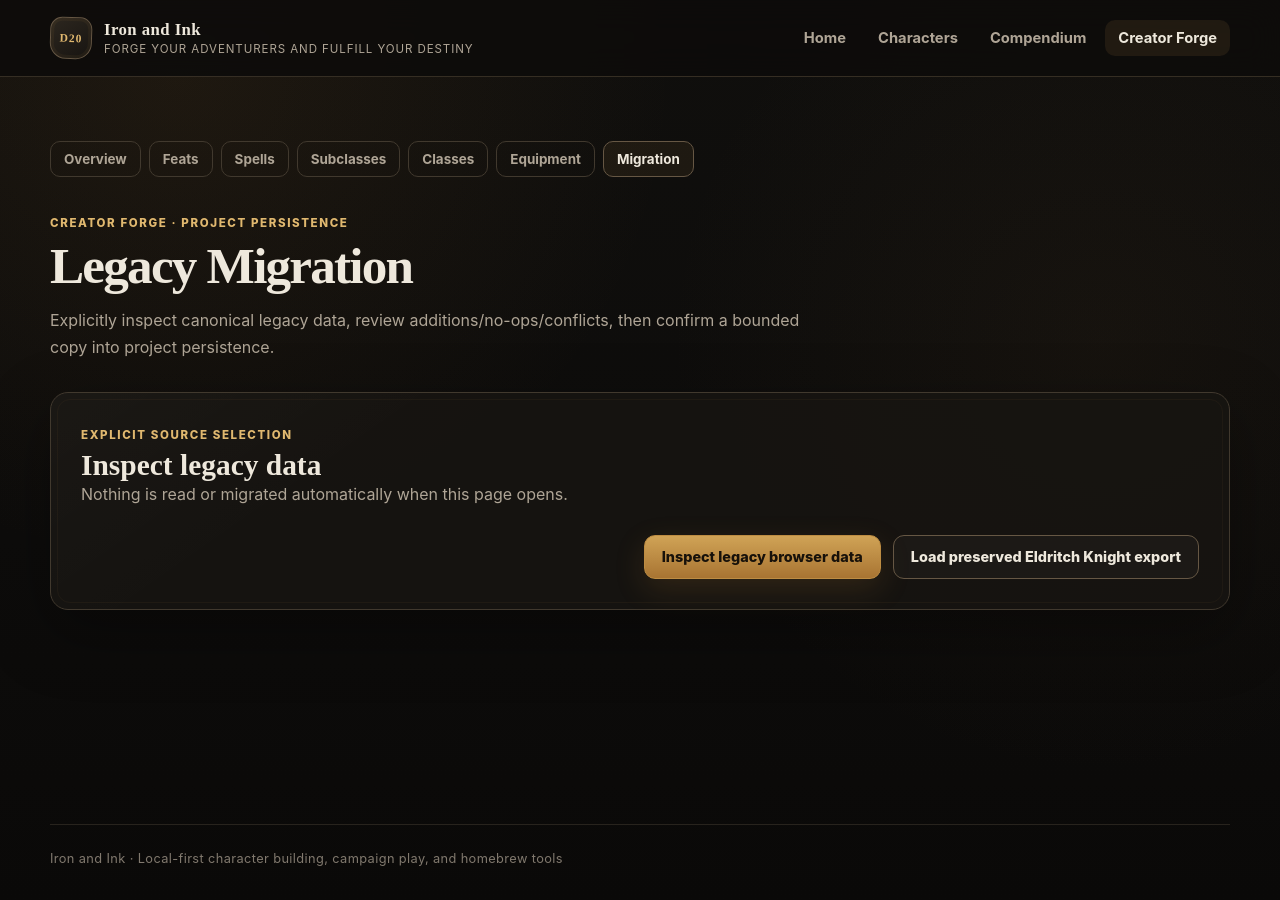
Test case: Project Persistence Phase G application migration › A40. migration UI reports additions
Click the button "Inspect legacy browser data" at (762, 557), box [644, 535, 881, 579]
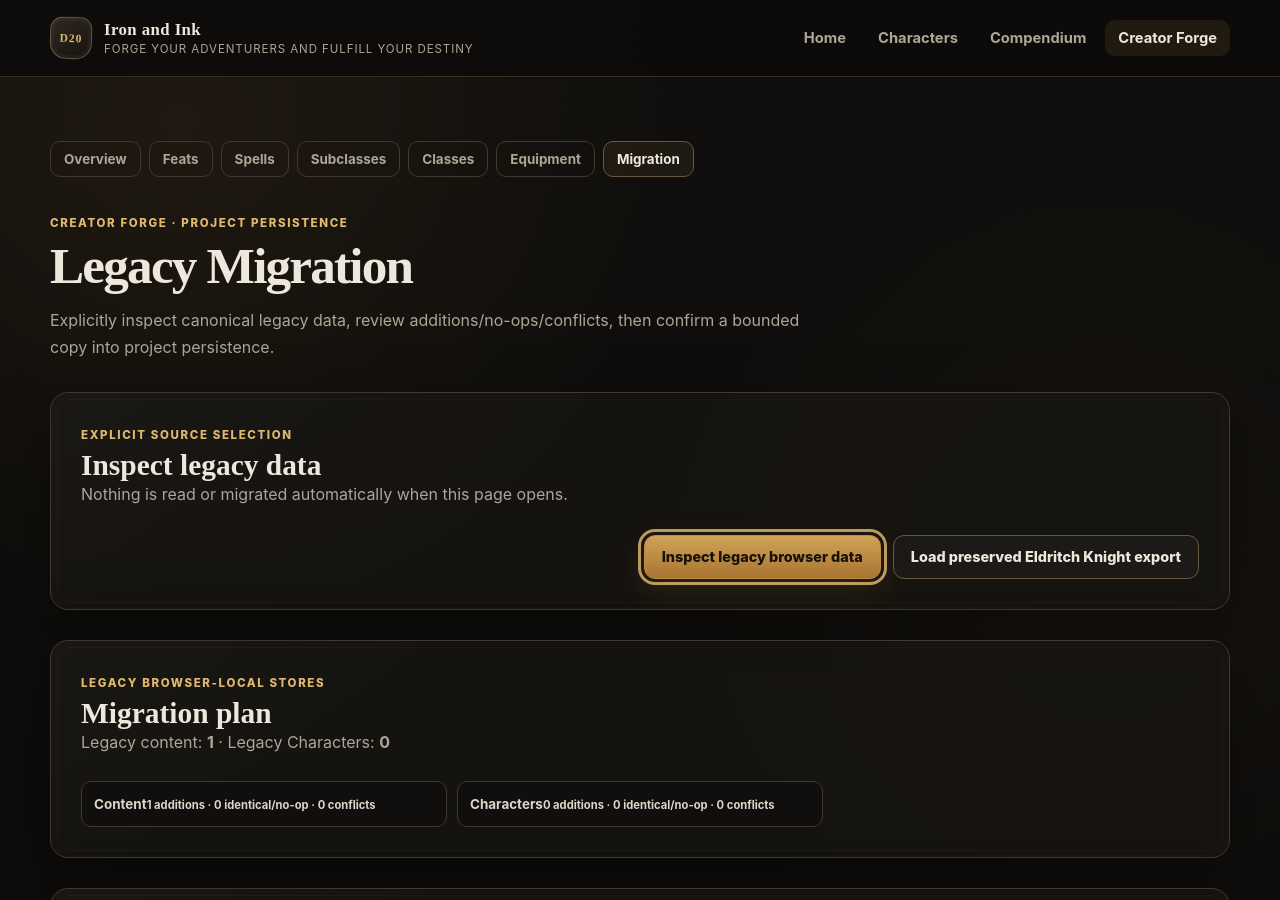
Expected: the text "1 additions · 0 identical/no-op · 0 conflicts" is shown, [147, 798, 376, 812]
